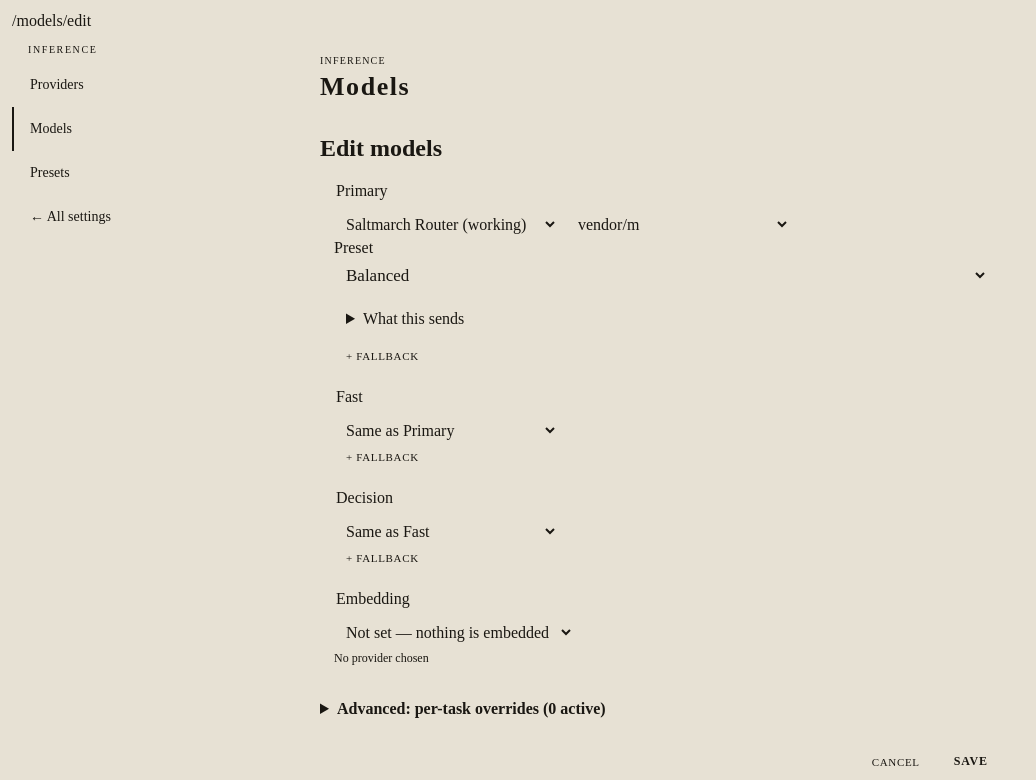
Test: a provider with no model holds Save and says why
The width and height of the screenshot is (1036, 780).
Check: the form "Edit models" is shown, box [320,135,1002,777]
Select "Realm Local (failing)" in the dropdown named "Fast provider": [446, 430] box [334,416,558,445]
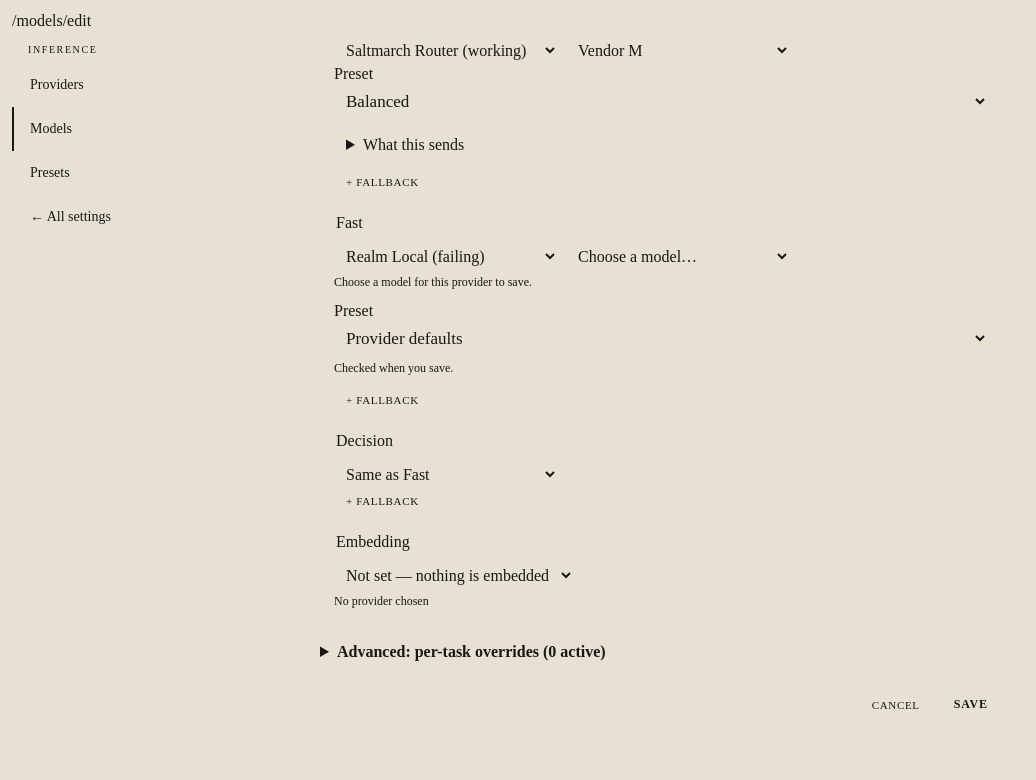
Check: the text "Choose a model for this provider to save." is shown, box [334,275,532,289]
Check: the button "Save" is disabled, box [940,689,1002,720]
